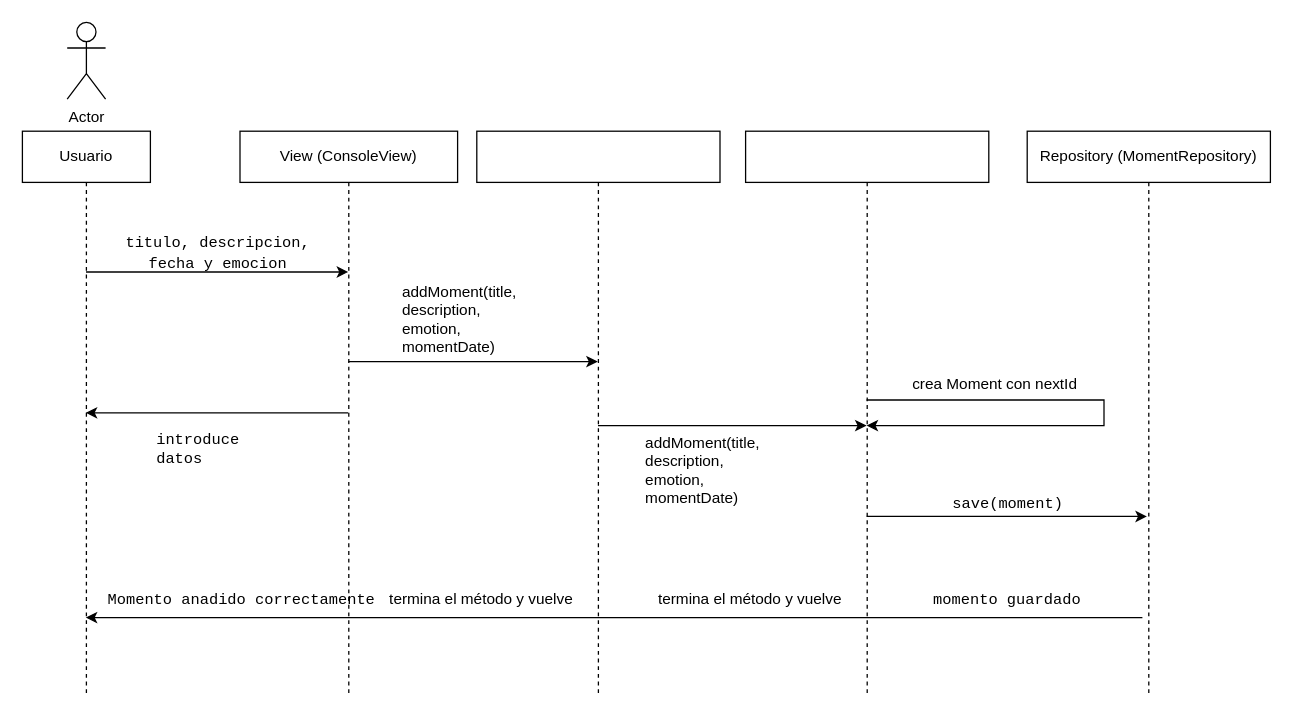
The diagram is 1293 pixels wide and 717 high, and some of its shapes have lost their labels. The box of each missing label's shape, as (x1, y1, x2, y2) in pixels:
Controller (MomentController): (476, 130, 720, 694)
Service (MomentService): (744, 130, 989, 694)
